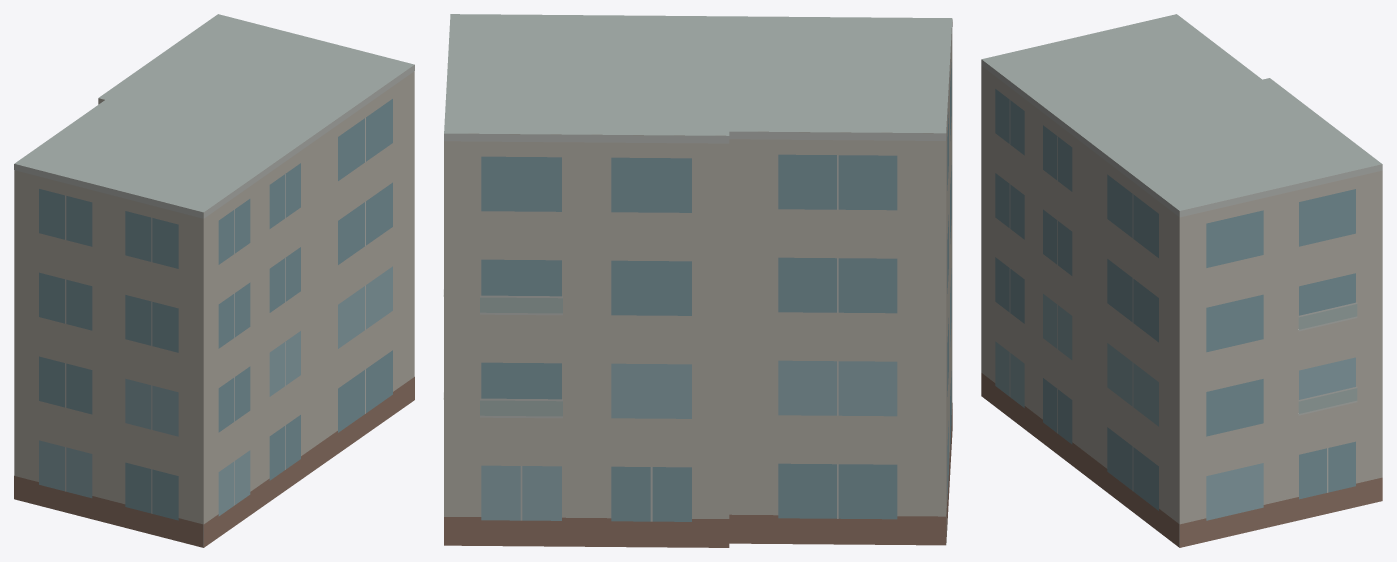
File: survey-upis-32615278.glb
3 renders of one model, left to right at view 1: azimuth 30°, elevation 25°; view 2: azimuth 150°, elevation 25°; view 3: azimuth 270°, elevation 25°, orthographic. The views are drawn at different scales.
Visible parts, largest first — view 1: survey-upis-32615278.tmp; view 2: survey-upis-32615278.tmp; view 3: survey-upis-32615278.tmp.
Part boxes in pixels (x1,y1,x2,y2): survey-upis-32615278.tmp: (14, 14, 414, 547); survey-upis-32615278.tmp: (443, 14, 952, 547); survey-upis-32615278.tmp: (981, 14, 1382, 547).
Bounding box in the file's own units: 16.07 × 12.8 × 13.82.
